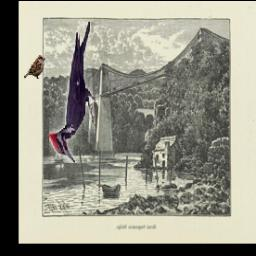Sparrow: (23, 56, 45, 80)
Woodpecker: (49, 23, 96, 164)
